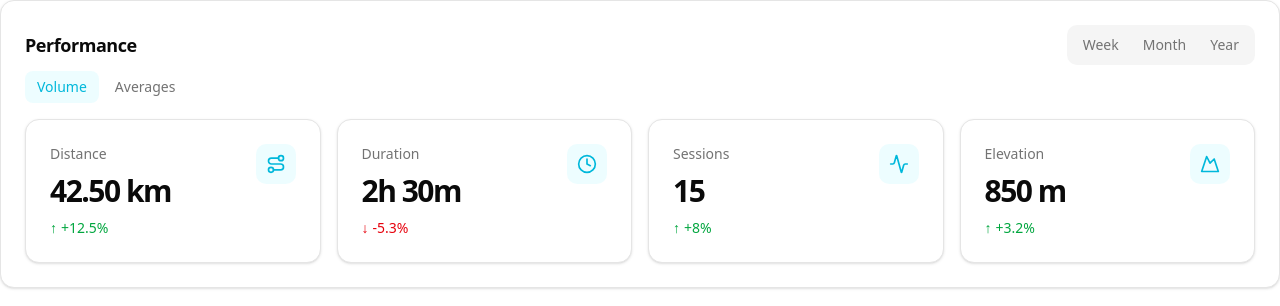
PerformanceOverviewSection › should switch to Averages tab when clicked
Click the tab "Averages" at (145, 87), box [103, 71, 187, 103]
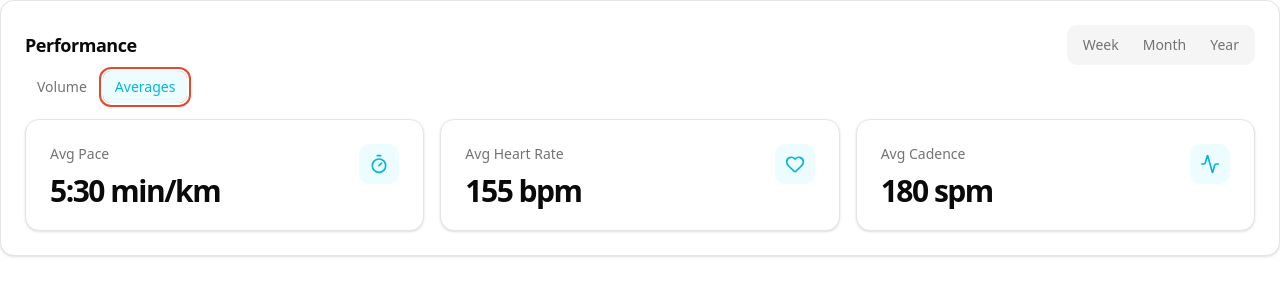
Result: the text "Avg Pace" is shown at [50, 144, 109, 163]
Result: the text "Avg Heart Rate" is shown at [465, 144, 564, 163]
Result: the text "Avg Cadence" is shown at [881, 144, 966, 163]
